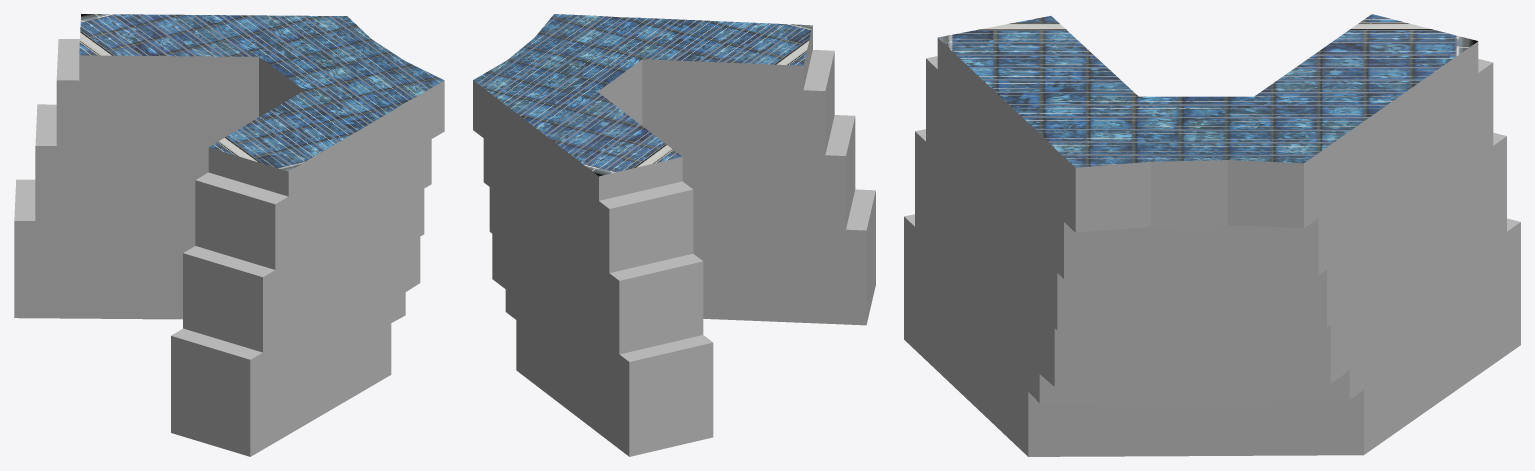
Rendered from Building 2 (1).fbx.
3 views of the same model, side by side, from view 1: azimuth 30°, elevation 25°; view 2: azimuth 150°, elevation 25°; view 3: azimuth 270°, elevation 25° (orthographic). The views are drawn at different scales.
Visible parts, largest first — view 1: Building3; view 2: Building3; view 3: Building3.
Part boxes in pixels (box(x1,y1,x2,y2)): Building3: box(14, 14, 444, 456); Building3: box(473, 14, 875, 456); Building3: box(904, 14, 1520, 456).
Bounding box in the file's own units: 104 × 88.56 × 148.
